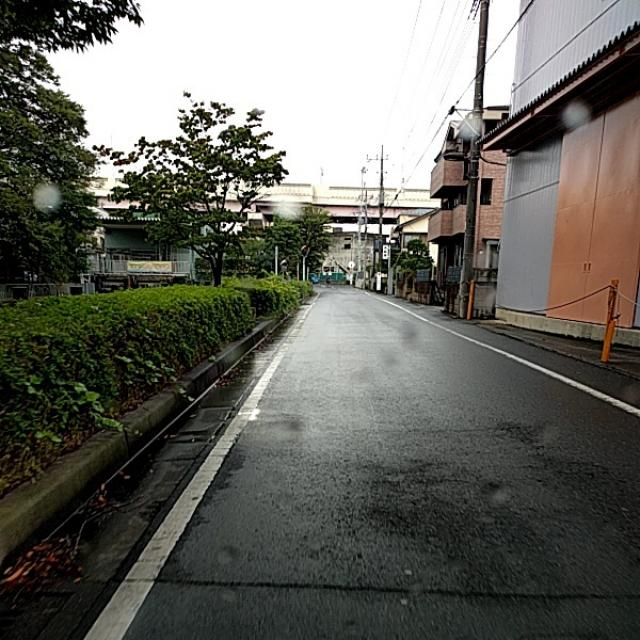pothole: (219, 524, 255, 576)
